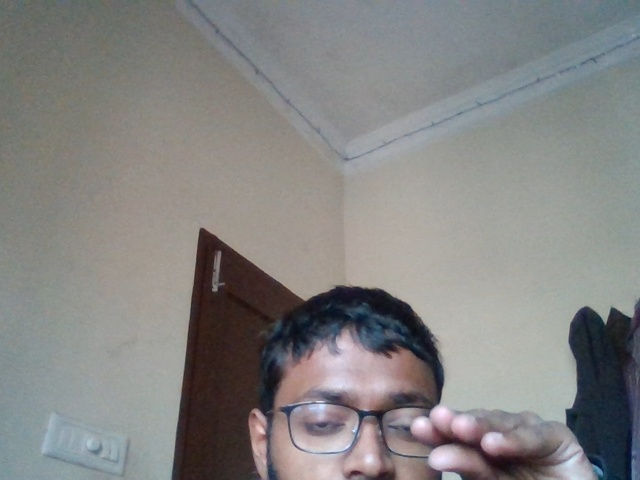no: (392, 392, 640, 480)
